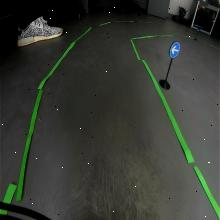left: (169, 41, 180, 58)
